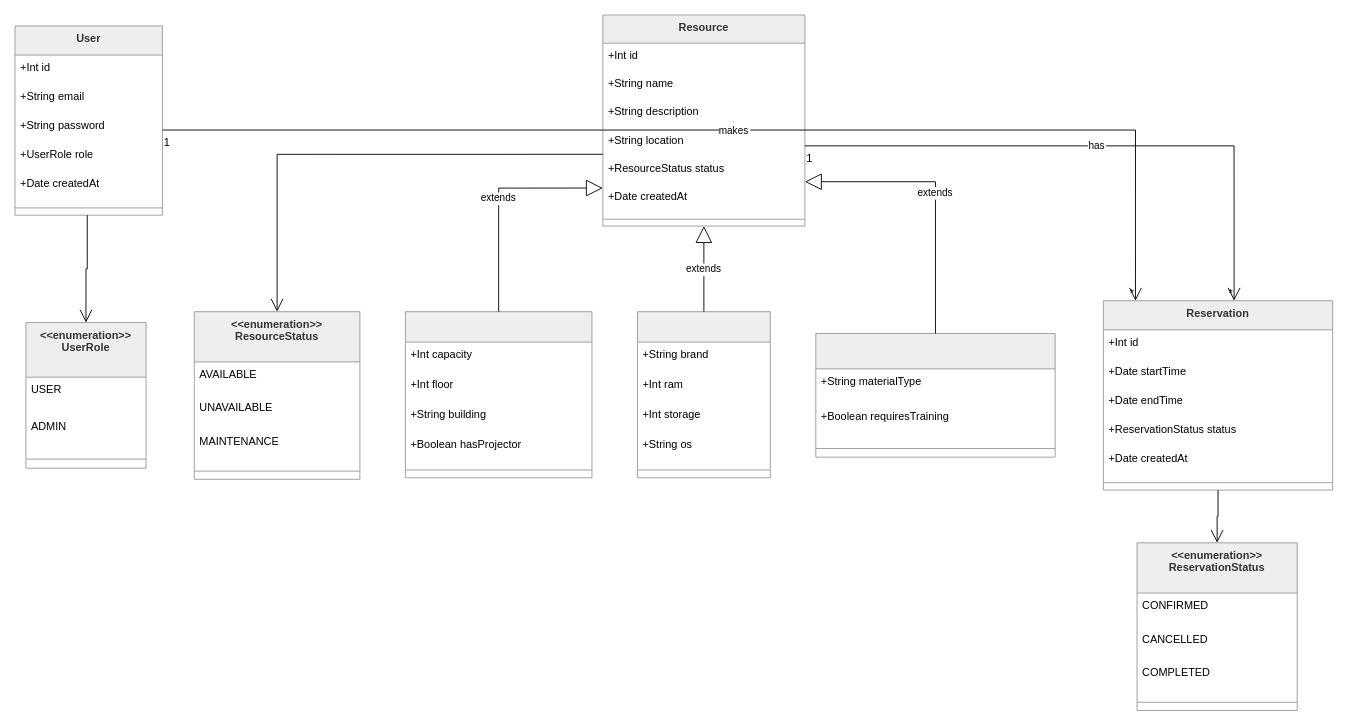
Image size: 1348x725. Some labels were removed from this diagram. Here are the shapes that lost their labels. From the top down, the box of each, then its label:
(404, 311, 592, 478): Room
(637, 311, 770, 478): Laptop
(815, 333, 1055, 457): LabEquipment
